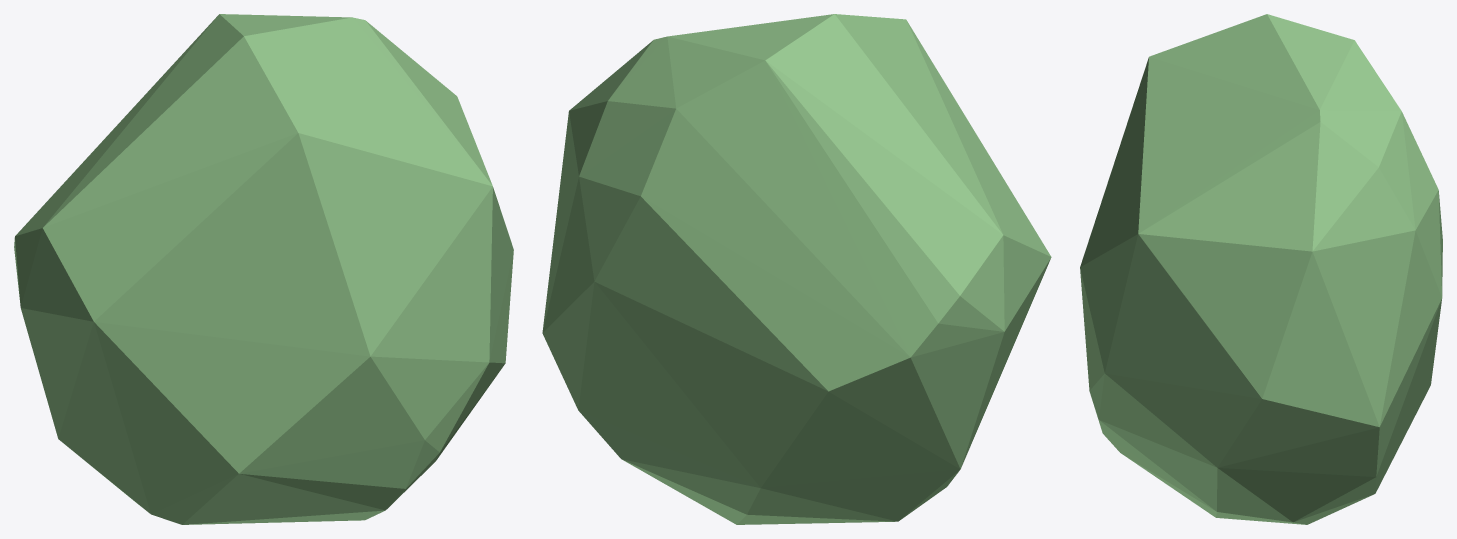
File: food_produce_orange_e01.glb
The picture shows the model from 3 angles, left to right: view 1: azimuth 30°, elevation 25°; view 2: azimuth 150°, elevation 25°; view 3: azimuth 270°, elevation 25°; orthographic projection. The views are drawn at different scales.
Parts seen in each view (by area): view 1: geometry_0; view 2: geometry_0; view 3: geometry_0.
Part boxes in pixels (bbox=[...]): geometry_0: bbox=[14, 14, 513, 524]; geometry_0: bbox=[542, 14, 1051, 524]; geometry_0: bbox=[1080, 14, 1442, 524].
Size of the model in its own units: 0.4634 by 0.4689 by 0.3332.
